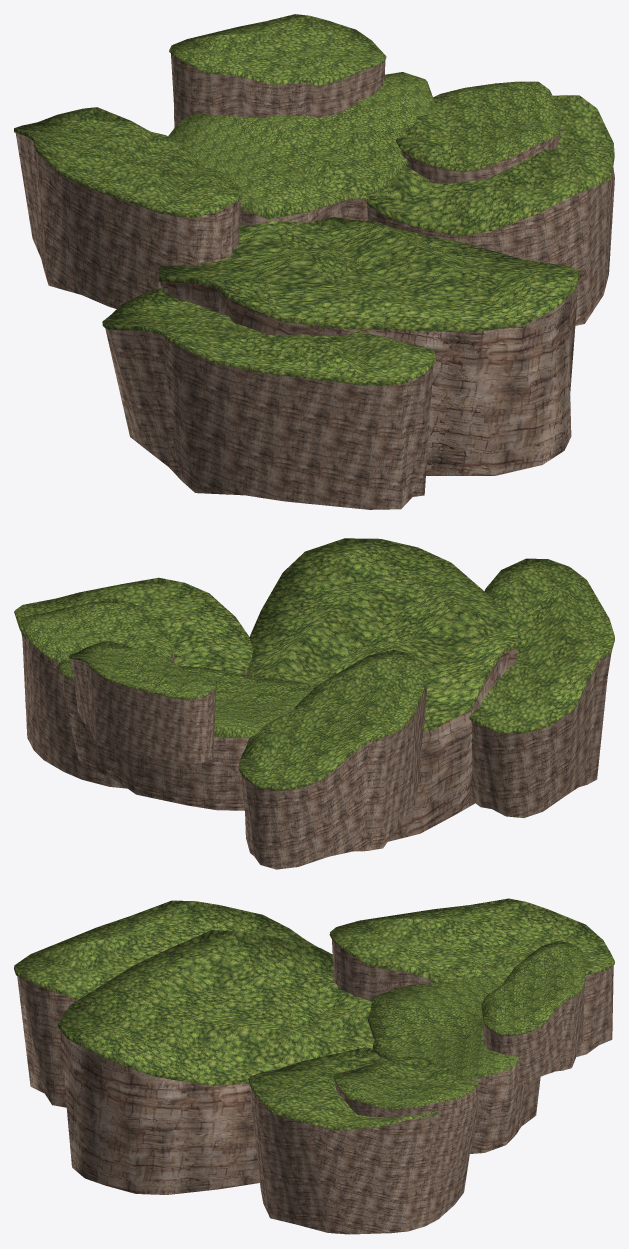
The model's file is stage3-ground.glb.
The picture shows the model from 3 angles, top to bottom: view 1: azimuth 30°, elevation 25°; view 2: azimuth 150°, elevation 25°; view 3: azimuth 270°, elevation 25°; orthographic projection. The views are drawn at different scales.
Parts seen in each view (by area): view 1: Plane.064_149, Plane.049_103, Plane.015_98, Plane.048_102, Plane.061_130, Plane.050_104, Plane.065_150, Plane.062_131, Plane.052_106, Plane.058_108, Plane.045_97, Plane.057_107 (+2 smaller); view 2: Plane.049_103, Plane.061_130, Plane.065_150, Plane.062_131, Plane.064_149, Plane.057_107, Plane.050_104, Plane.020_99, Plane.015_98, Plane.052_106, Plane.048_102, Plane.058_108 (+2 smaller); view 3: Plane.049_103, Plane.015_98, Plane.045_97, Plane.062_131, Plane.065_150, Plane.048_102, Plane.050_104, Plane.058_108, Plane.052_106, Plane.061_130, Plane.057_107, Plane.064_149 (+2 smaller).
Part boxes in pixels (box(x1,y1,x2,y2)): Plane.064_149: box(105, 328, 433, 509); Plane.049_103: box(158, 217, 579, 332); Plane.015_98: box(158, 282, 577, 475); Plane.048_102: box(168, 72, 437, 219); Plane.061_130: box(15, 108, 240, 308); Plane.050_104: box(364, 95, 614, 236); Plane.065_150: box(102, 288, 436, 385); Plane.062_131: box(14, 107, 241, 218); Plane.052_106: box(396, 81, 560, 172); Plane.058_108: box(169, 14, 386, 85); Plane.045_97: box(367, 167, 614, 325); Plane.057_107: box(171, 54, 385, 127); Plane.049_103: box(247, 538, 518, 731); Plane.061_130: box(240, 684, 427, 869); Plane.065_150: box(469, 558, 614, 733); Plane.062_131: box(238, 650, 428, 790); Plane.064_149: box(470, 652, 611, 817); Plane.057_107: box(70, 644, 215, 763); Plane.050_104: box(14, 577, 252, 674); Plane.020_99: box(63, 675, 249, 810); Plane.015_98: box(388, 647, 516, 841); Plane.052_106: box(21, 599, 174, 663); Plane.048_102: box(59, 660, 318, 738); Plane.058_108: box(69, 641, 216, 699); Plane.049_103: box(58, 930, 374, 1085); Plane.015_98: box(60, 1030, 259, 1194); Plane.045_97: box(250, 1088, 469, 1234); Plane.062_131: box(329, 898, 614, 982); Plane.065_150: box(14, 900, 318, 999); Plane.048_102: box(367, 977, 520, 1081); Plane.050_104: box(248, 1047, 441, 1130); Plane.058_108: box(481, 941, 585, 1035); Plane.052_106: box(333, 1056, 478, 1109); Plane.061_130: box(332, 939, 613, 1056); Plane.057_107: box(483, 984, 584, 1085); Plane.064_149: box(17, 976, 78, 1107).
Size of the model in its own units: 533 by 218 by 577.
Materials: 3 (3 with a texture image).
